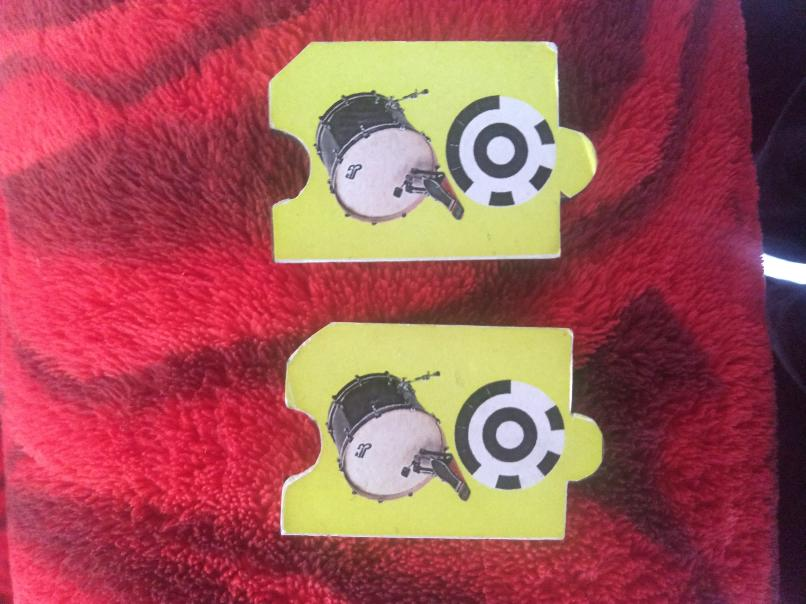bumbo: (268, 36, 598, 265), (277, 320, 608, 539)
